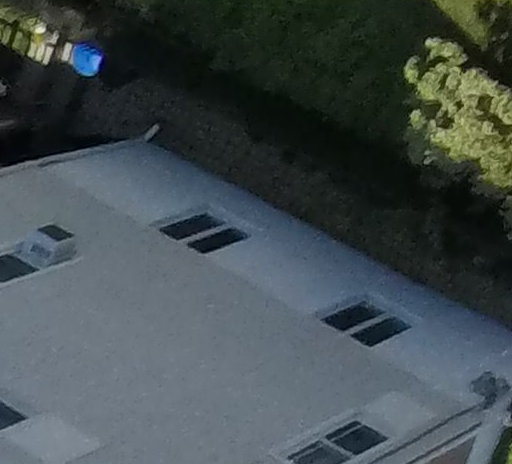container: (65, 46, 105, 77)
